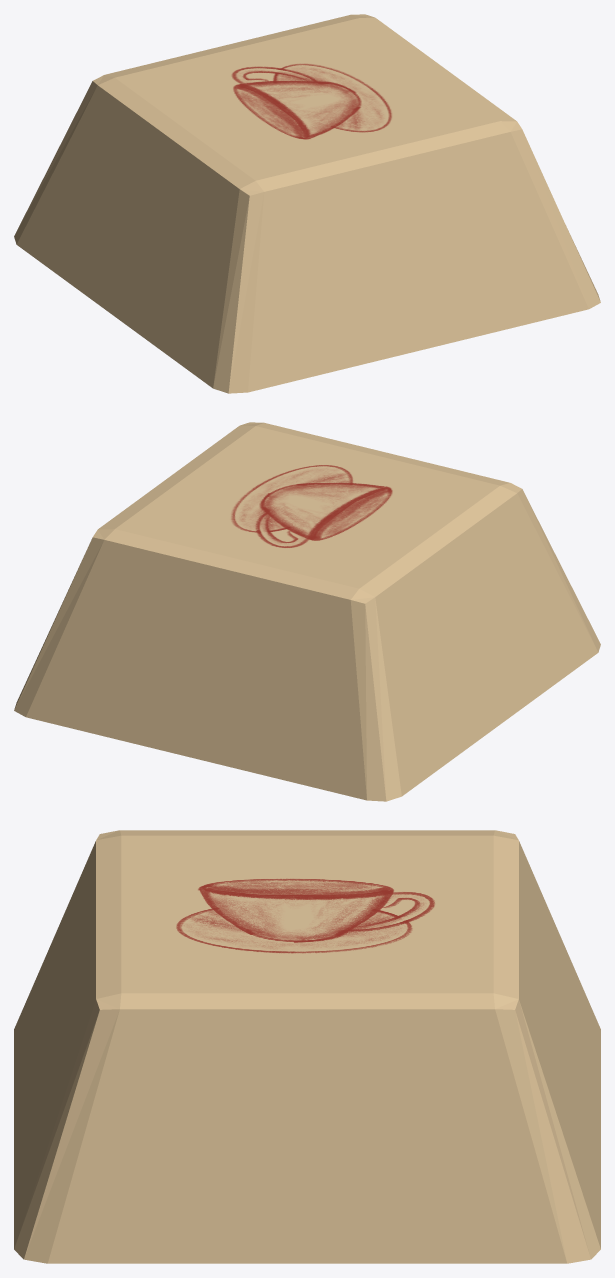
The model's file is botonTaza.fbx.
The picture shows the model from 3 angles, top to bottom: view 1: azimuth 30°, elevation 25°; view 2: azimuth 150°, elevation 25°; view 3: azimuth 270°, elevation 25°; orthographic projection. The views are drawn at different scales.
Parts seen in each view (by area): view 1: bttn0; view 2: bttn0; view 3: bttn0.
Boxes of the visible parts, x1,y1,x2,y2 form: bttn0: [14, 14, 600, 393]; bttn0: [14, 422, 600, 801]; bttn0: [14, 830, 600, 1263].
Size of the model in its own units: 1.8 by 0.7587 by 1.79.
